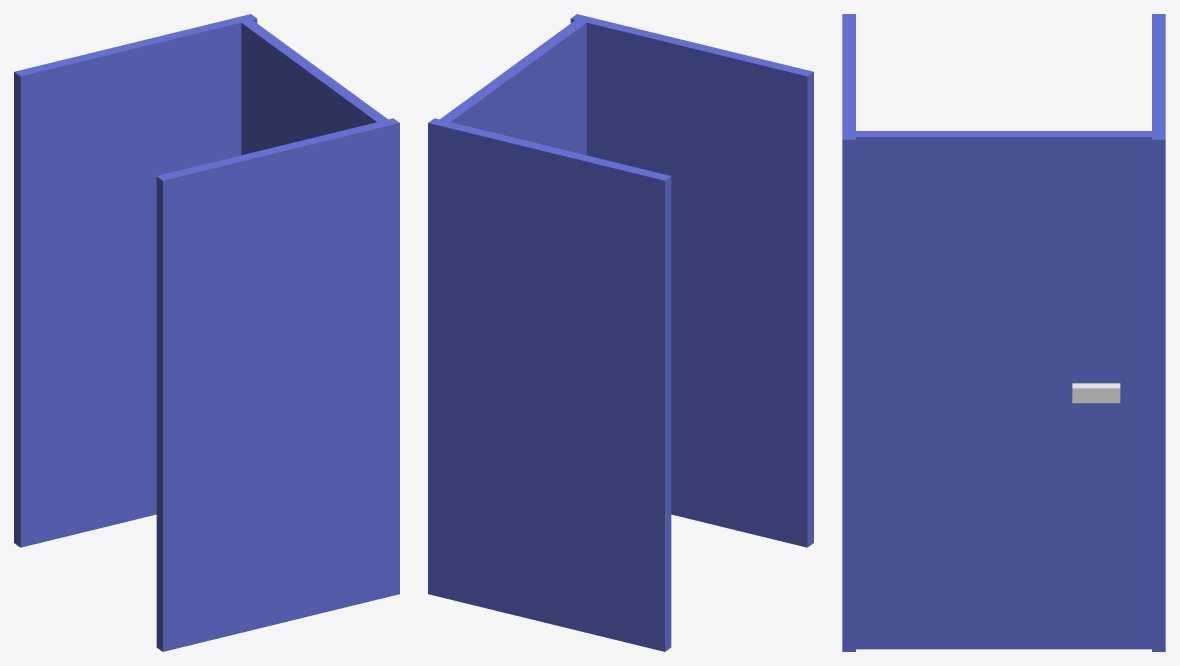
The model's file is kabin.fbx.
3 renders of one model, left to right at view 1: azimuth 30°, elevation 25°; view 2: azimuth 150°, elevation 25°; view 3: azimuth 270°, elevation 25°, orthographic. The views are drawn at different scales.
Parts seen in each view (by area): view 1: Cube.001; view 2: Cube.001; view 3: Cube.001, Cube.003.
Part boxes in pixels (x1,y1,x2,y2): Cube.001: (14, 14, 399, 651); Cube.001: (428, 14, 813, 651); Cube.001: (842, 14, 1165, 651); Cube.003: (1072, 383, 1120, 403).
Size of the model in its own units: 204 by 380 by 218.
